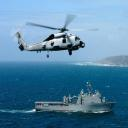helicopter: (11, 12, 92, 61), (33, 80, 119, 118)
